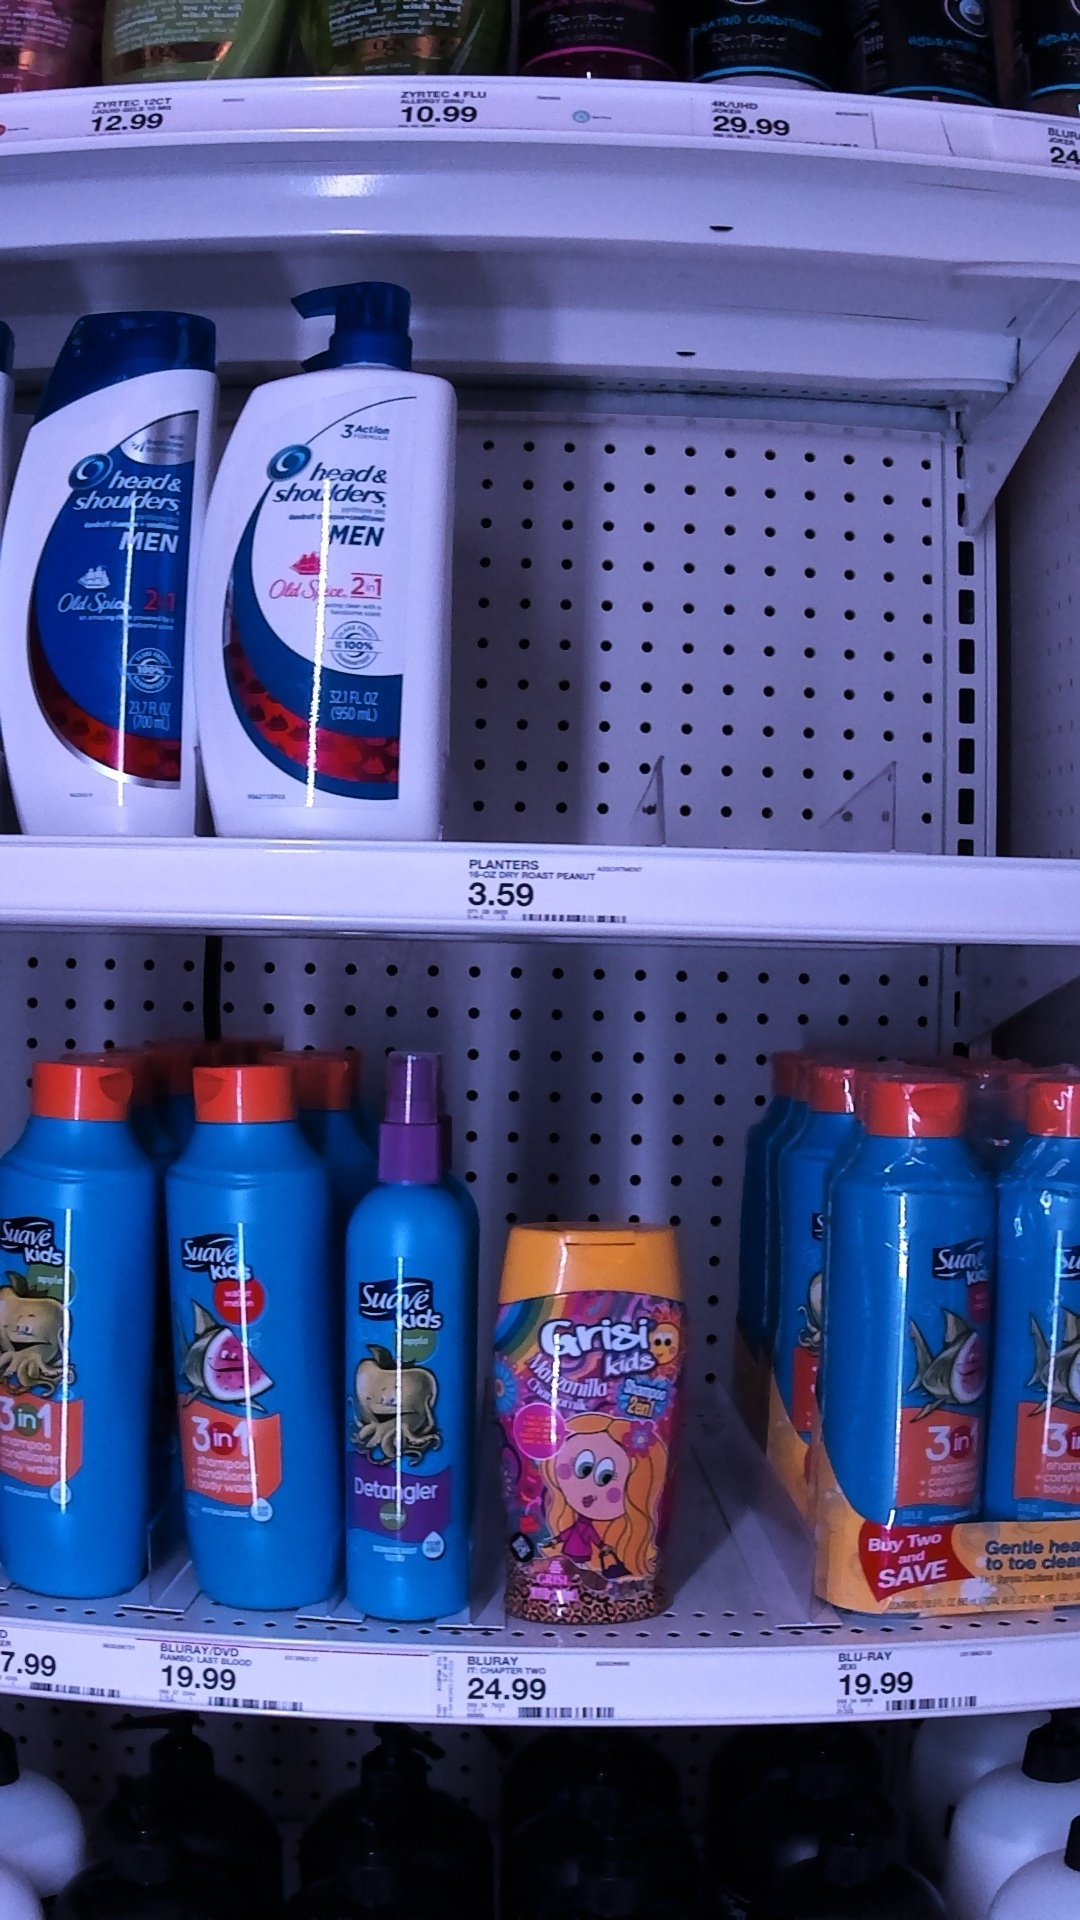ptag: (455, 840, 646, 931), (152, 1636, 331, 1722), (684, 82, 880, 157), (825, 1646, 1002, 1722), (462, 1651, 626, 1733), (1, 1631, 135, 1705), (392, 82, 533, 142), (82, 91, 214, 140)
